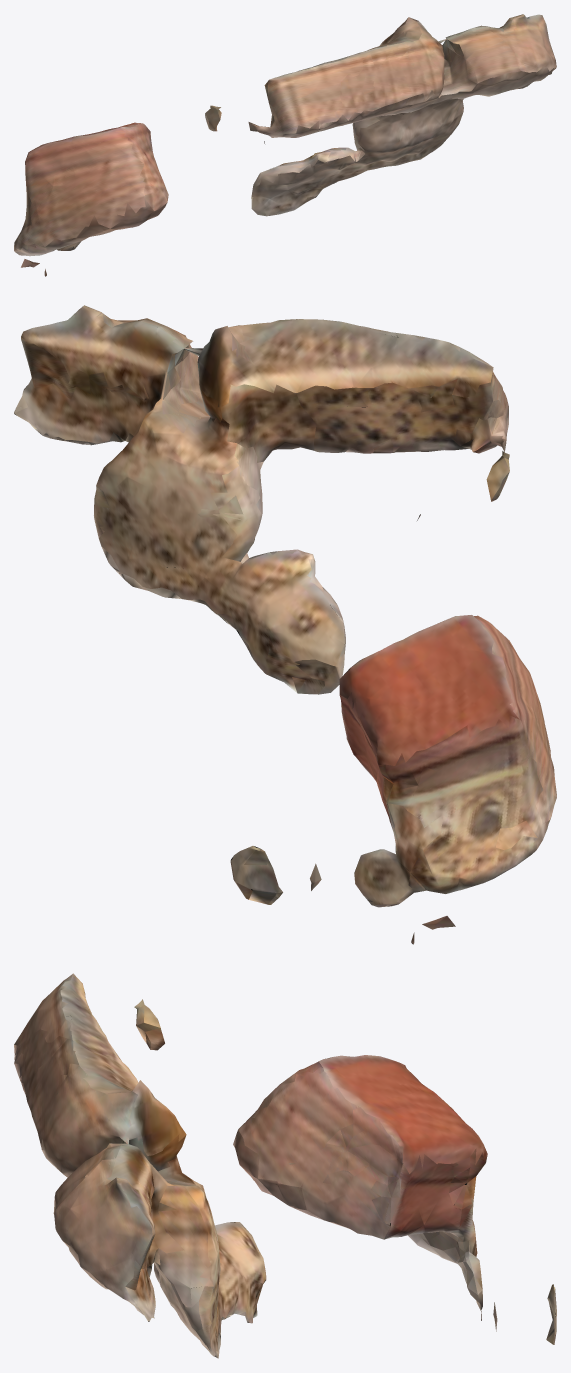
Rendered from 19_47_12_19_viennese-rosewood-music-box.glb.
3 renders of one model, top to bottom at view 1: azimuth 30°, elevation 25°; view 2: azimuth 150°, elevation 25°; view 3: azimuth 270°, elevation 25°, orthographic. The views are drawn at different scales.
Visible parts, largest first — view 1: world; view 2: world; view 3: world.
Boxes of the visible parts, x1,y1,x2,y2 form: world: (14,14,556,276); world: (14,305,556,944); world: (14,973,556,1358).
Bounding box in the file's own units: 0.7539 × 0.4545 × 0.5371.
1 material, 1 textured.
